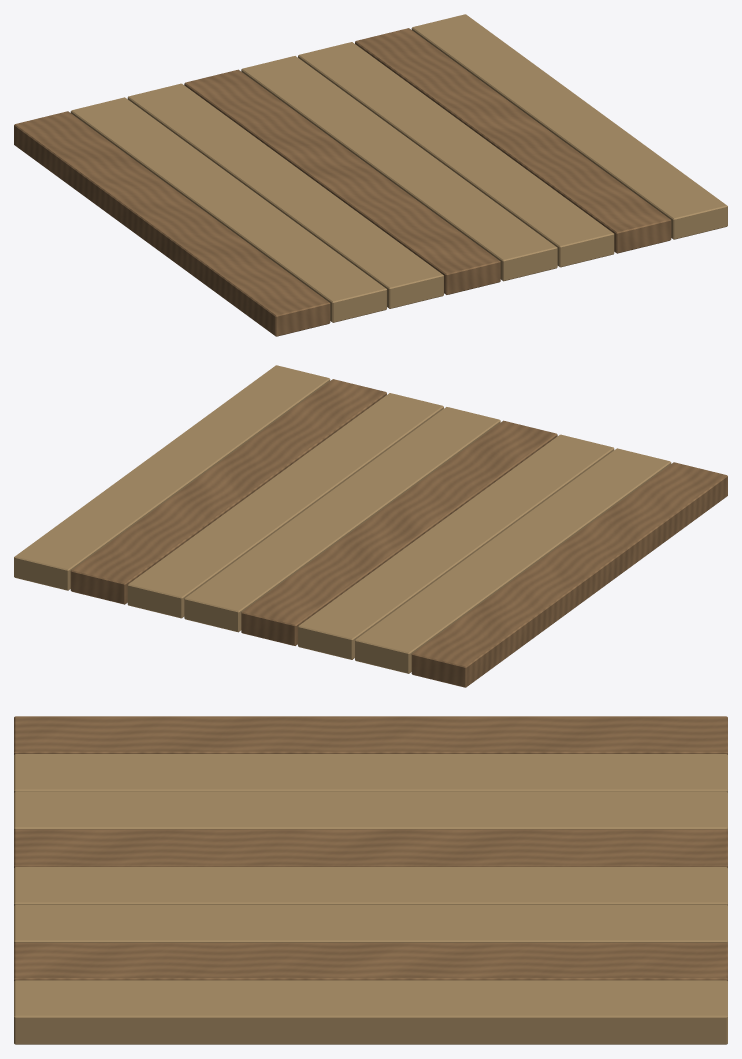
Rendered from floor_wood_2x2.glb.
The picture shows the model from 3 angles, top to bottom: view 1: azimuth 30°, elevation 25°; view 2: azimuth 150°, elevation 25°; view 3: azimuth 270°, elevation 25°; orthographic projection. The views are drawn at different scales.
Visible parts, largest first — view 1: floor_wood_2x2; view 2: floor_wood_2x2; view 3: floor_wood_2x2.
Part boxes in pixels (box(x1,y1,x2,y2)): floor_wood_2x2: box(14, 14, 727, 336); floor_wood_2x2: box(14, 365, 727, 687); floor_wood_2x2: box(14, 716, 727, 1044).
Bounding box in the file's own units: 1.99 × 0.09 × 2.
2 materials, 1 textured.
